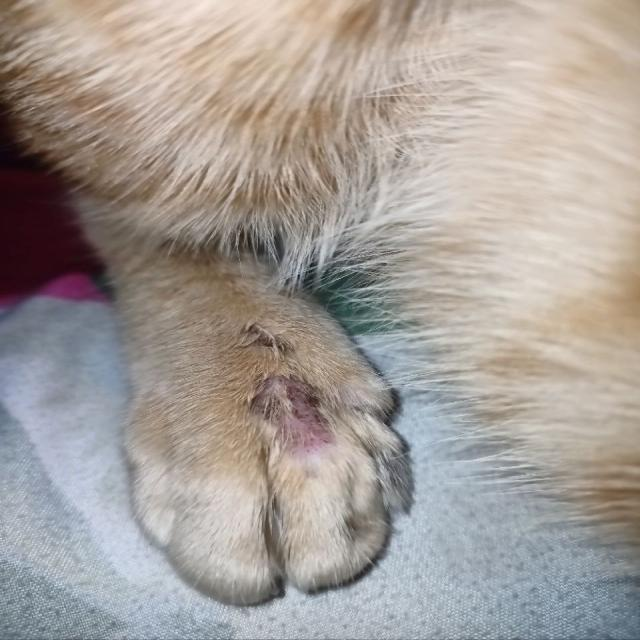hac lao: (204, 310, 370, 498)
